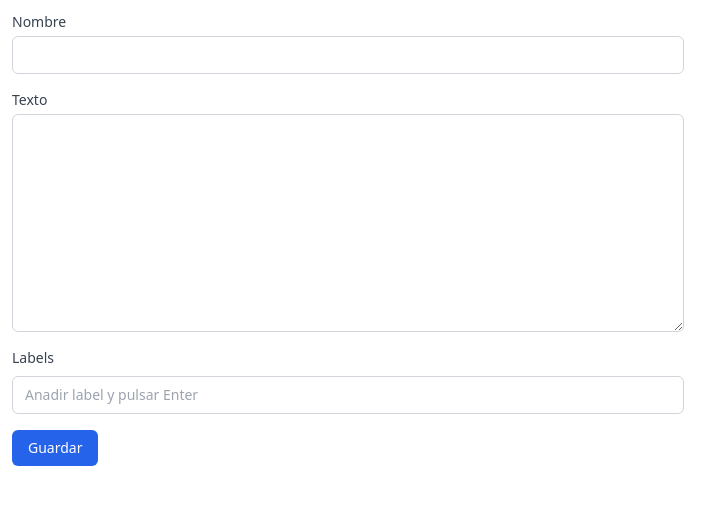
Test: ClausulaForm › shows validation error when nombre is empty
Type "texto valido" into the text box named "texto" at {"x": 348, "y": 223}, box [12,114,684,332]
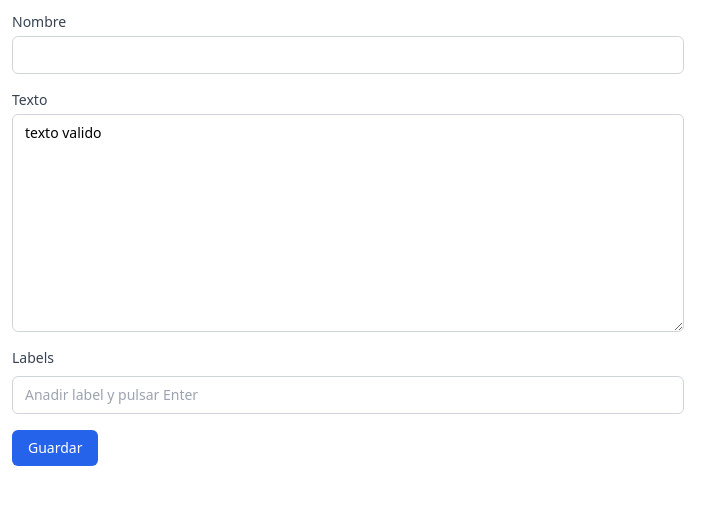
Click the button "Guardar" at {"x": 55, "y": 448}, box [12,430,98,466]
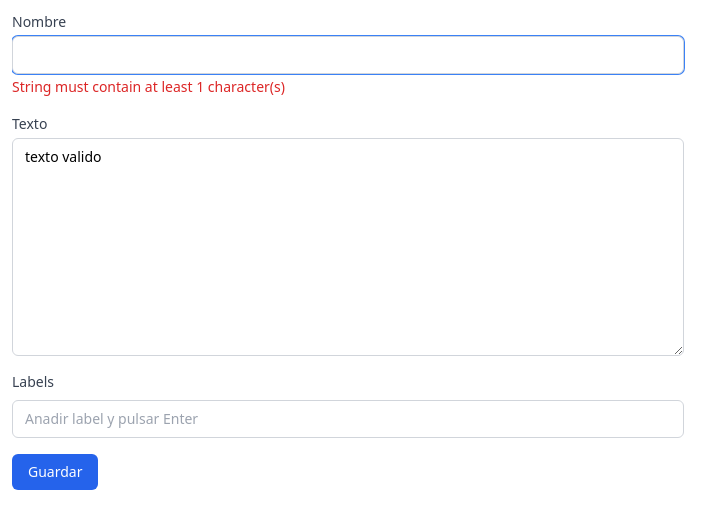
Expected: the text "at least 1" is shown, [12,77,285,96]
